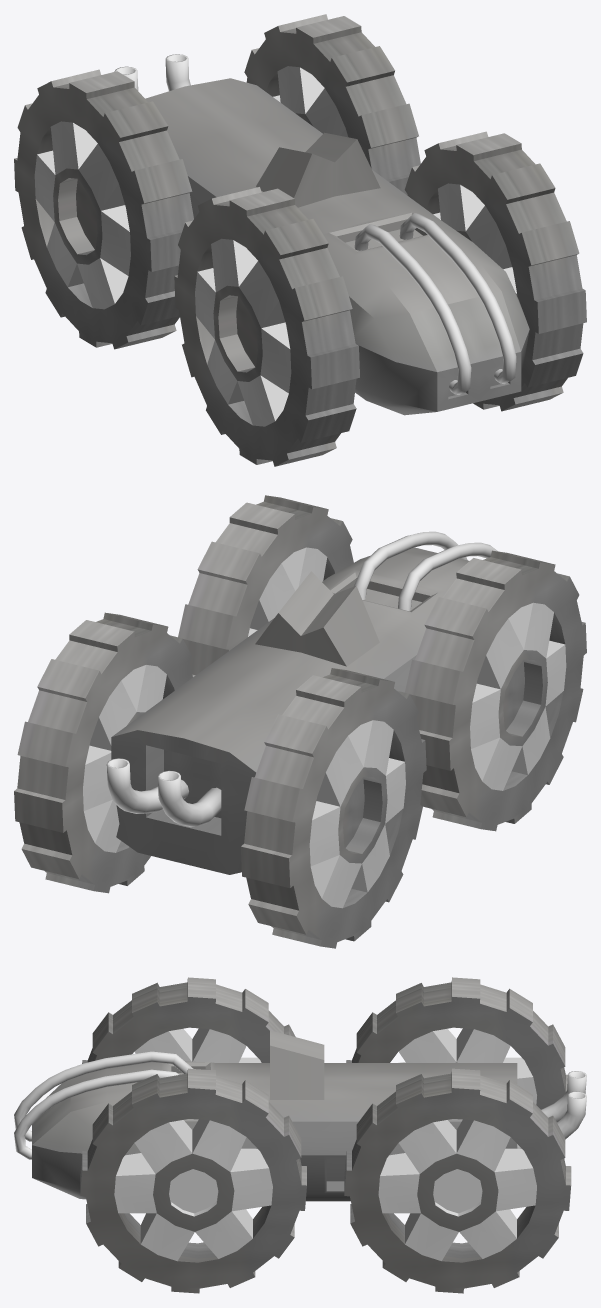
File: Spider.fbx
3 views of the same model, one above another, from view 1: azimuth 30°, elevation 25°; view 2: azimuth 150°, elevation 25°; view 3: azimuth 270°, elevation 25° (orthographic). The views are drawn at different scales.
Visible parts, largest first — view 1: Cube, Cylinder.142, Cylinder.141, Cylinder.140, Cylinder.139, Cube.002, Cube.003, Cube.004; view 2: Cube, Cylinder.141, Cylinder.142, Cylinder.139, Cylinder.140, Cube.005, Cube.004, Cube.002, Cube.003; view 3: Cylinder.139, Cylinder.140, Cube, Cylinder.141, Cylinder.142, Cube.003, Cube.002, Cube.004, Cube.005.
Part boxes in pixels (box(x1,y1,x2,y2)): Cube: box(145, 78, 529, 415); Cylinder.142: box(174, 187, 359, 466); Cylinder.141: box(14, 69, 193, 349); Cylinder.140: box(404, 131, 586, 411); Cylinder.139: box(244, 14, 420, 195); Cube.002: box(399, 213, 516, 384); Cube.003: box(354, 224, 471, 394); Cube.004: box(165, 54, 190, 91); Cube: box(111, 547, 469, 874); Cylinder.141: box(241, 668, 426, 948); Cylinder.142: box(405, 550, 586, 831); Cylinder.139: box(14, 612, 192, 893); Cylinder.140: box(178, 495, 353, 676); Cube.005: box(158, 770, 221, 827); Cube.004: box(106, 758, 188, 813); Cube.002: box(354, 531, 467, 599); Cube.003: box(398, 542, 498, 610); Cylinder.139: box(344, 1068, 571, 1293); Cylinder.140: box(80, 1068, 306, 1293); Cube: box(32, 1030, 517, 1201); Cylinder.141: box(346, 977, 567, 1109); Cylinder.142: box(82, 977, 295, 1063); Cube.003: box(14, 1051, 193, 1141); Cube.002: box(14, 1069, 178, 1159); Cube.004: box(517, 1091, 586, 1148); Cube.005: box(541, 1071, 586, 1122).
Bounding box in the file's own units: 143 × 119 × 301.
